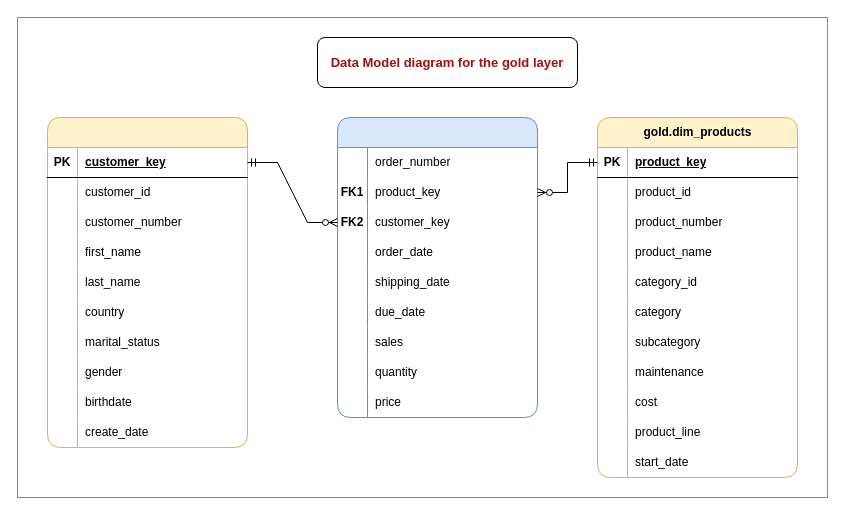
Image size: 845x515. Some labels were removed from this diagram. The box of each missing label's shape, as (x1, y1, x2, y2) in pixels:
gold.dim_customers: (46, 116, 248, 448)
gold.fact_sales: (336, 116, 538, 418)
